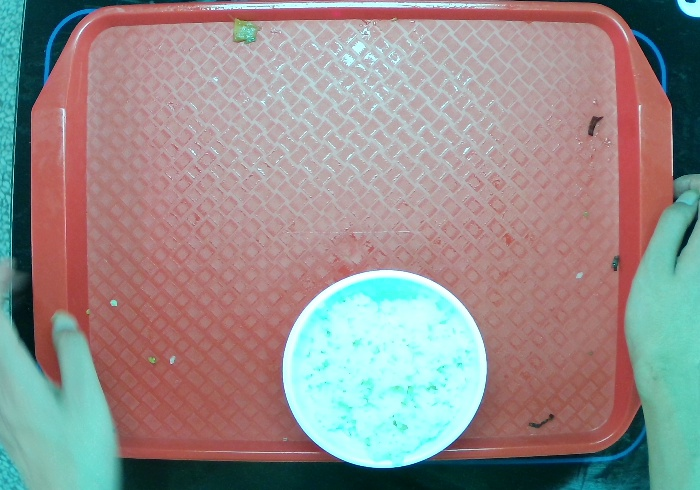YKMZ-Fan_Wan: (277, 263, 492, 475)
